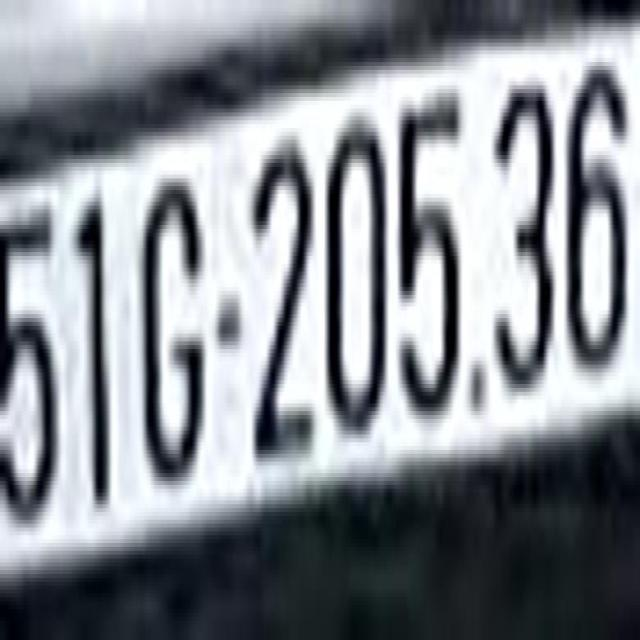0: (324, 103, 387, 436)
1: (72, 176, 115, 514)
2: (250, 126, 314, 467)
3: (490, 59, 554, 404)
5: (396, 78, 463, 426), (0, 195, 58, 529)
6: (565, 45, 628, 386)
G: (141, 161, 206, 491)
